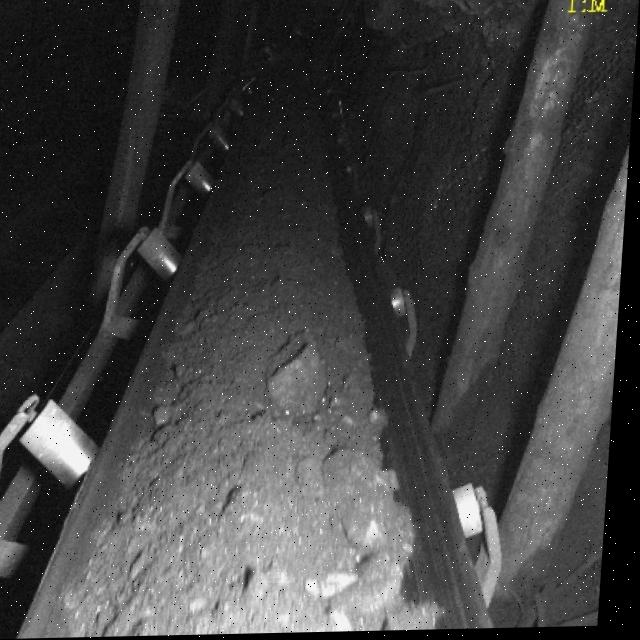large_sized_coal: (304, 446, 407, 496), (270, 342, 332, 420), (345, 559, 413, 616), (342, 505, 404, 554), (228, 492, 275, 529)
